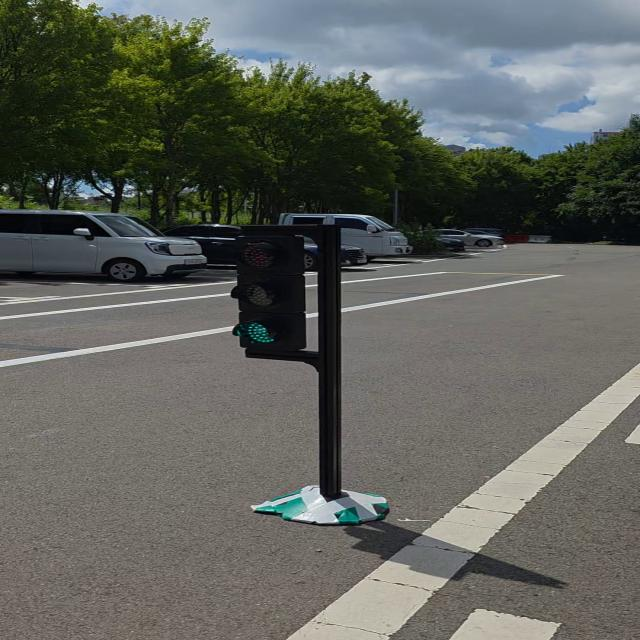green: (234, 228, 308, 358)
